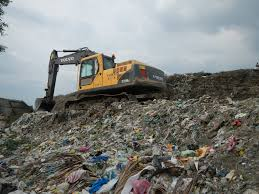excavator: (39, 46, 176, 113)
